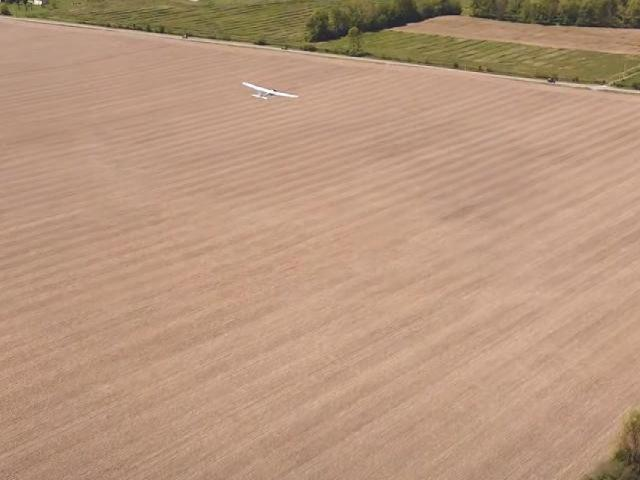iha: (243, 80, 299, 101)
